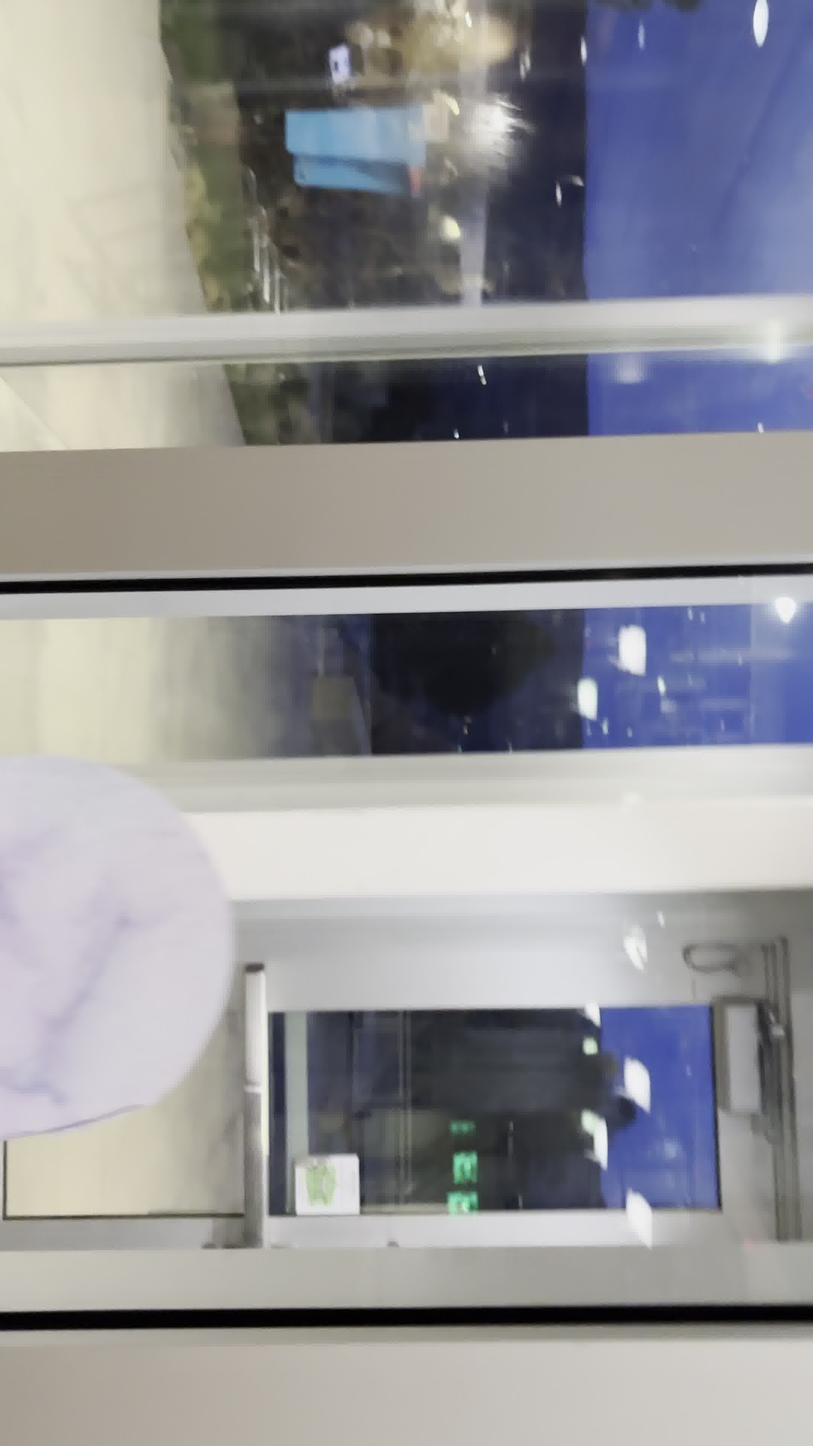Target: (0, 760, 225, 1139)
